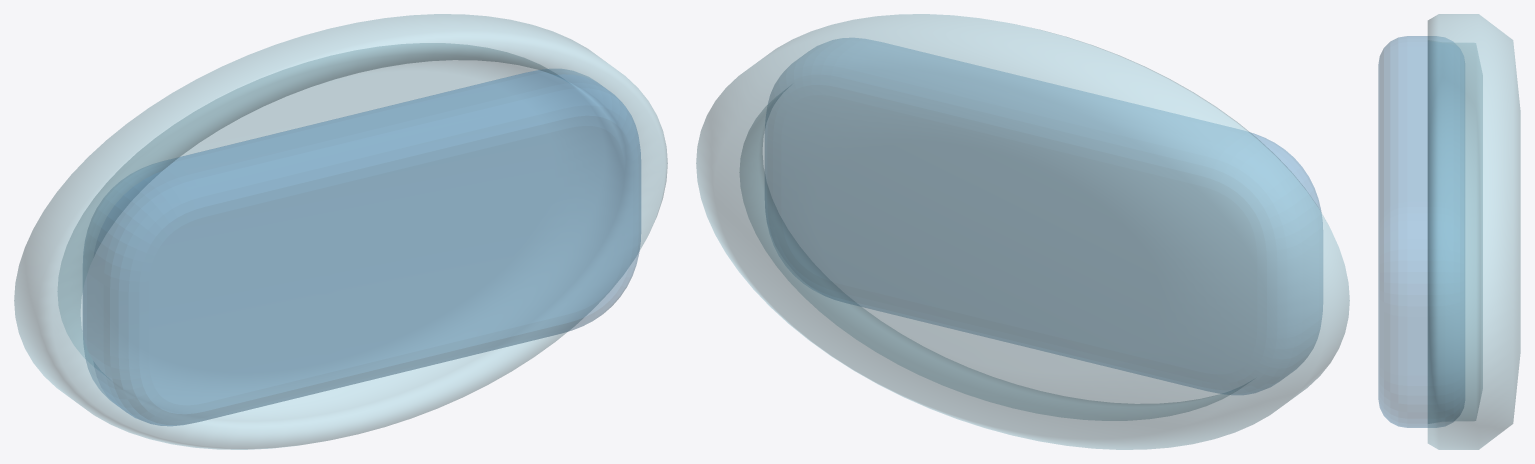
3 renders of one model, left to right at view 1: azimuth 30°, elevation 25°; view 2: azimuth 150°, elevation 25°; view 3: azimuth 270°, elevation 25°, orthographic. The views are drawn at different scales.
Parts seen in each view (by area): view 1: rocker-bed, rocker; view 2: rocker-bed, rocker; view 3: rocker-bed, rocker.
Part boxes in pixels (box(x1,y1,x2,y2)): rocker-bed: box(14, 14, 667, 449); rocker: box(83, 69, 640, 425); rocker-bed: box(696, 14, 1349, 449); rocker: box(765, 38, 1322, 394); rocker-bed: box(1427, 14, 1520, 449); rocker: box(1378, 36, 1464, 427).
Bounding box in the file's own units: 2.2 × 1.3 × 0.49.
